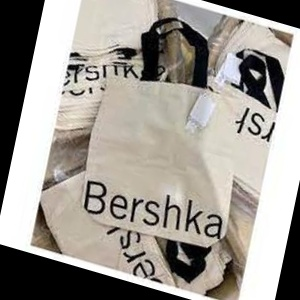bershka: (170, 101, 287, 300)
